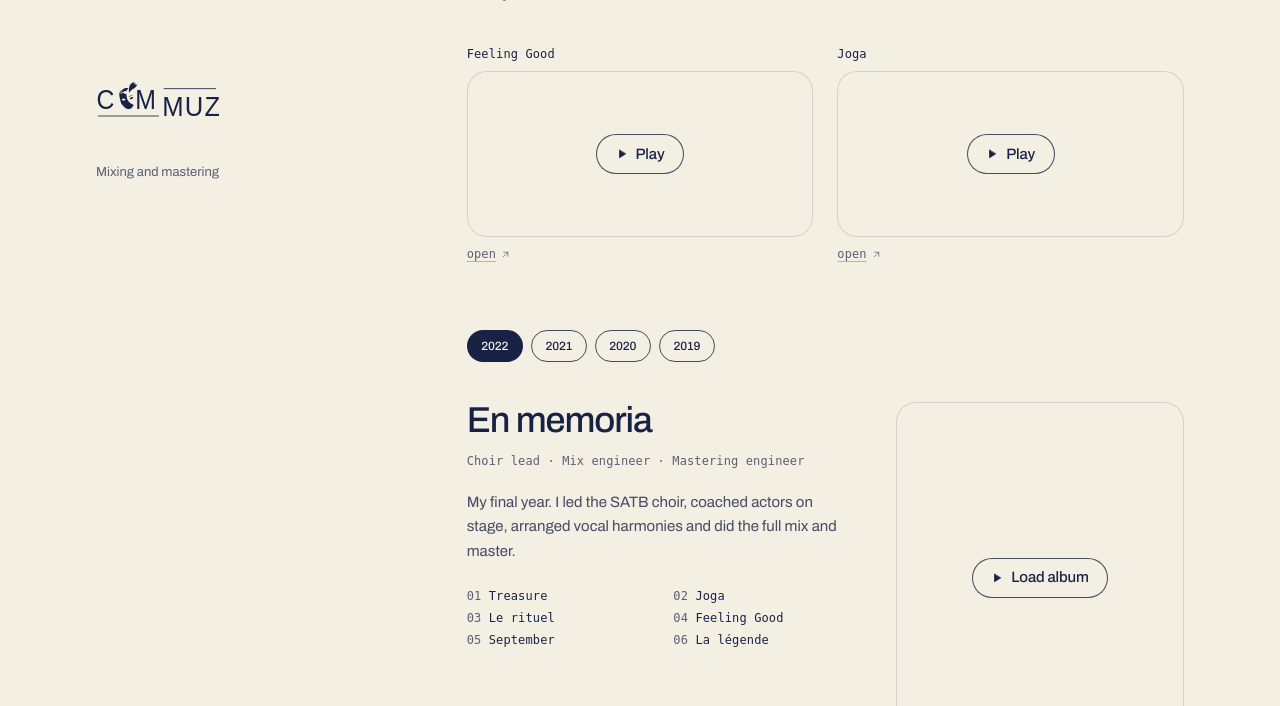
Test: commuz year tabs show each play
The width and height of the screenshot is (1280, 706).
(page scrolled)
Click the tab "2019": [687, 346] box [659,330,715,362]
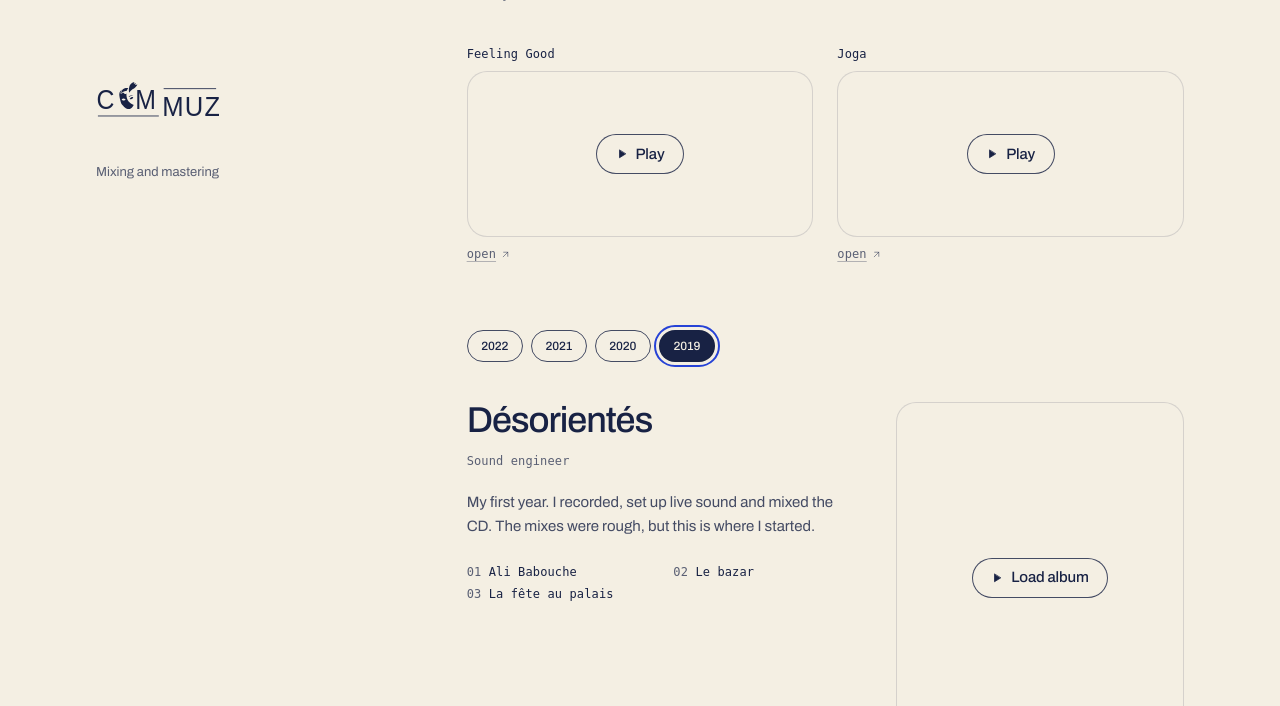
Expected: the heading "Désorientés" is shown, [467,400,652,440]
